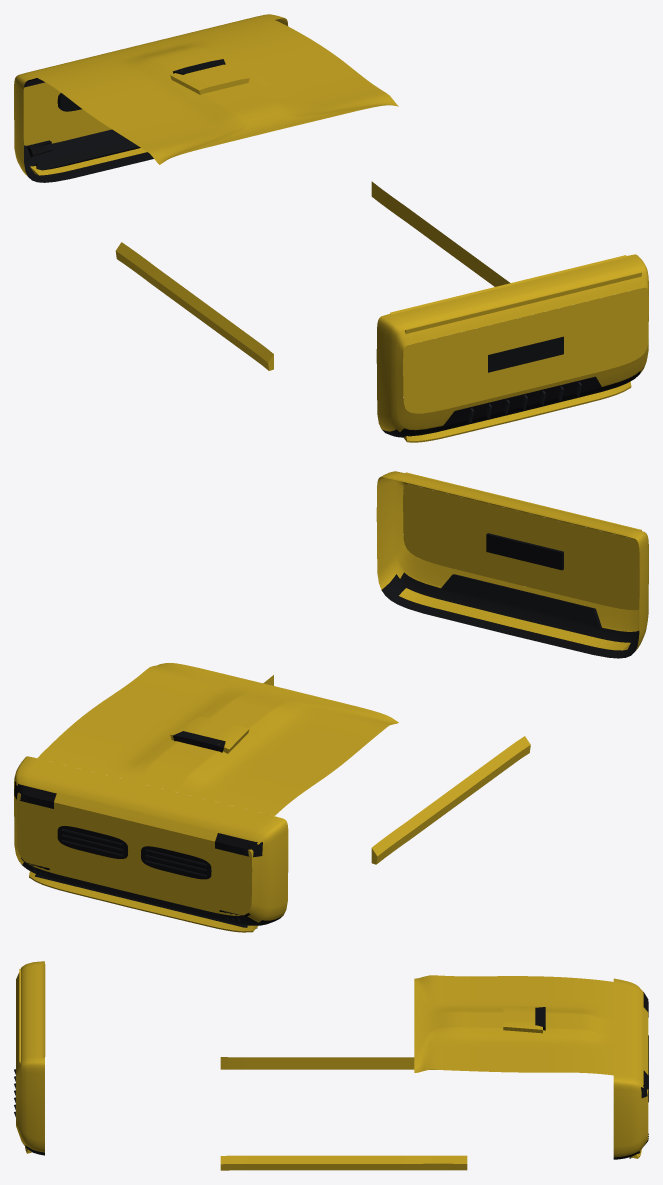
The model's file is kit_street.glb.
3 renders of one model, top to bottom at view 1: azimuth 30°, elevation 25°; view 2: azimuth 150°, elevation 25°; view 3: azimuth 270°, elevation 25°, orthographic. The views are drawn at different scales.
Parts seen in each view (by area): view 1: bumper_front__street, hood__street, bumper_rear__street, skirts__street, spoiler__street; view 2: bumper_front__street, hood__street, bumper_rear__street, skirts__street, spoiler__street; view 3: hood__street, skirts__street, bumper_front__street, bumper_rear__street, spoiler__street.
Boxes of the visible parts, box(x1,y1,x2,y2) form: bumper_front__street: box(14, 14, 648, 413); hood__street: box(37, 20, 398, 164); bumper_rear__street: box(376, 254, 648, 442); skirts__street: box(115, 181, 510, 370); spoiler__street: box(390, 255, 641, 333); bumper_front__street: box(14, 484, 639, 932); hood__street: box(37, 663, 398, 815); bumper_rear__street: box(376, 471, 648, 658); skirts__street: box(263, 675, 530, 864); spoiler__street: box(390, 472, 641, 535); hood__street: box(414, 975, 613, 1075); skirts__street: box(220, 1057, 467, 1170); bumper_front__street: box(613, 978, 648, 1159); bumper_rear__street: box(14, 961, 44, 1155); spoiler__street: box(19, 964, 45, 1064).
Size of what is drawn, in the model's own units: 1.88 by 0.9167 by 4.84.
